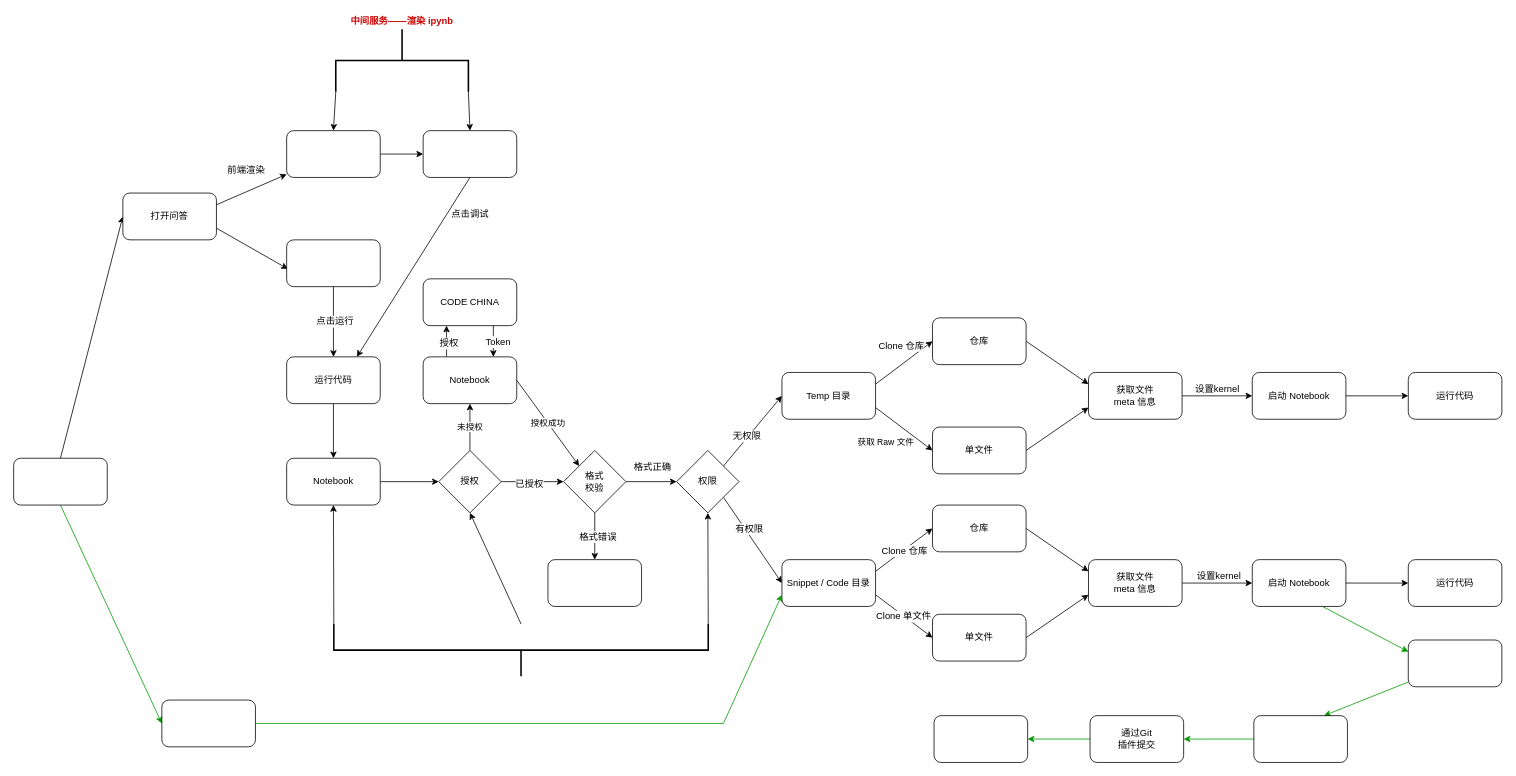
This 1516x776 diagram has some shape labels left out. Here are the shapes that lost their labels. From the top down, the centre of each, then its label:
At (333,153): "ipynb 的 HTML格式".
At (469,153): "查看结果".
At (333,263): "访问 CODE CHINA 文件链接".
At (60,481): "CSDN 用户".
At (594,582): "Notebook 格式错误".
At (521,650): "中间服务——校验权限".
At (1455,663): "编辑文件".
At (208,723): "直接访问 Notebook".
At (980,738): "CODE CHINA 仓库".
At (1300,738): "保存文件".
